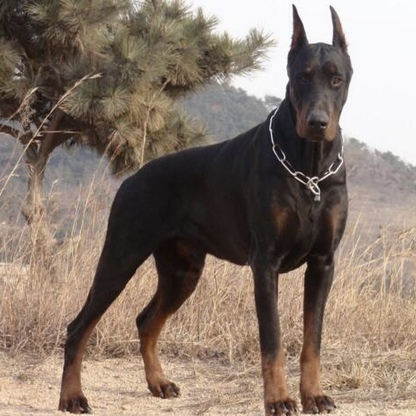doberman: (63, 3, 357, 416)
